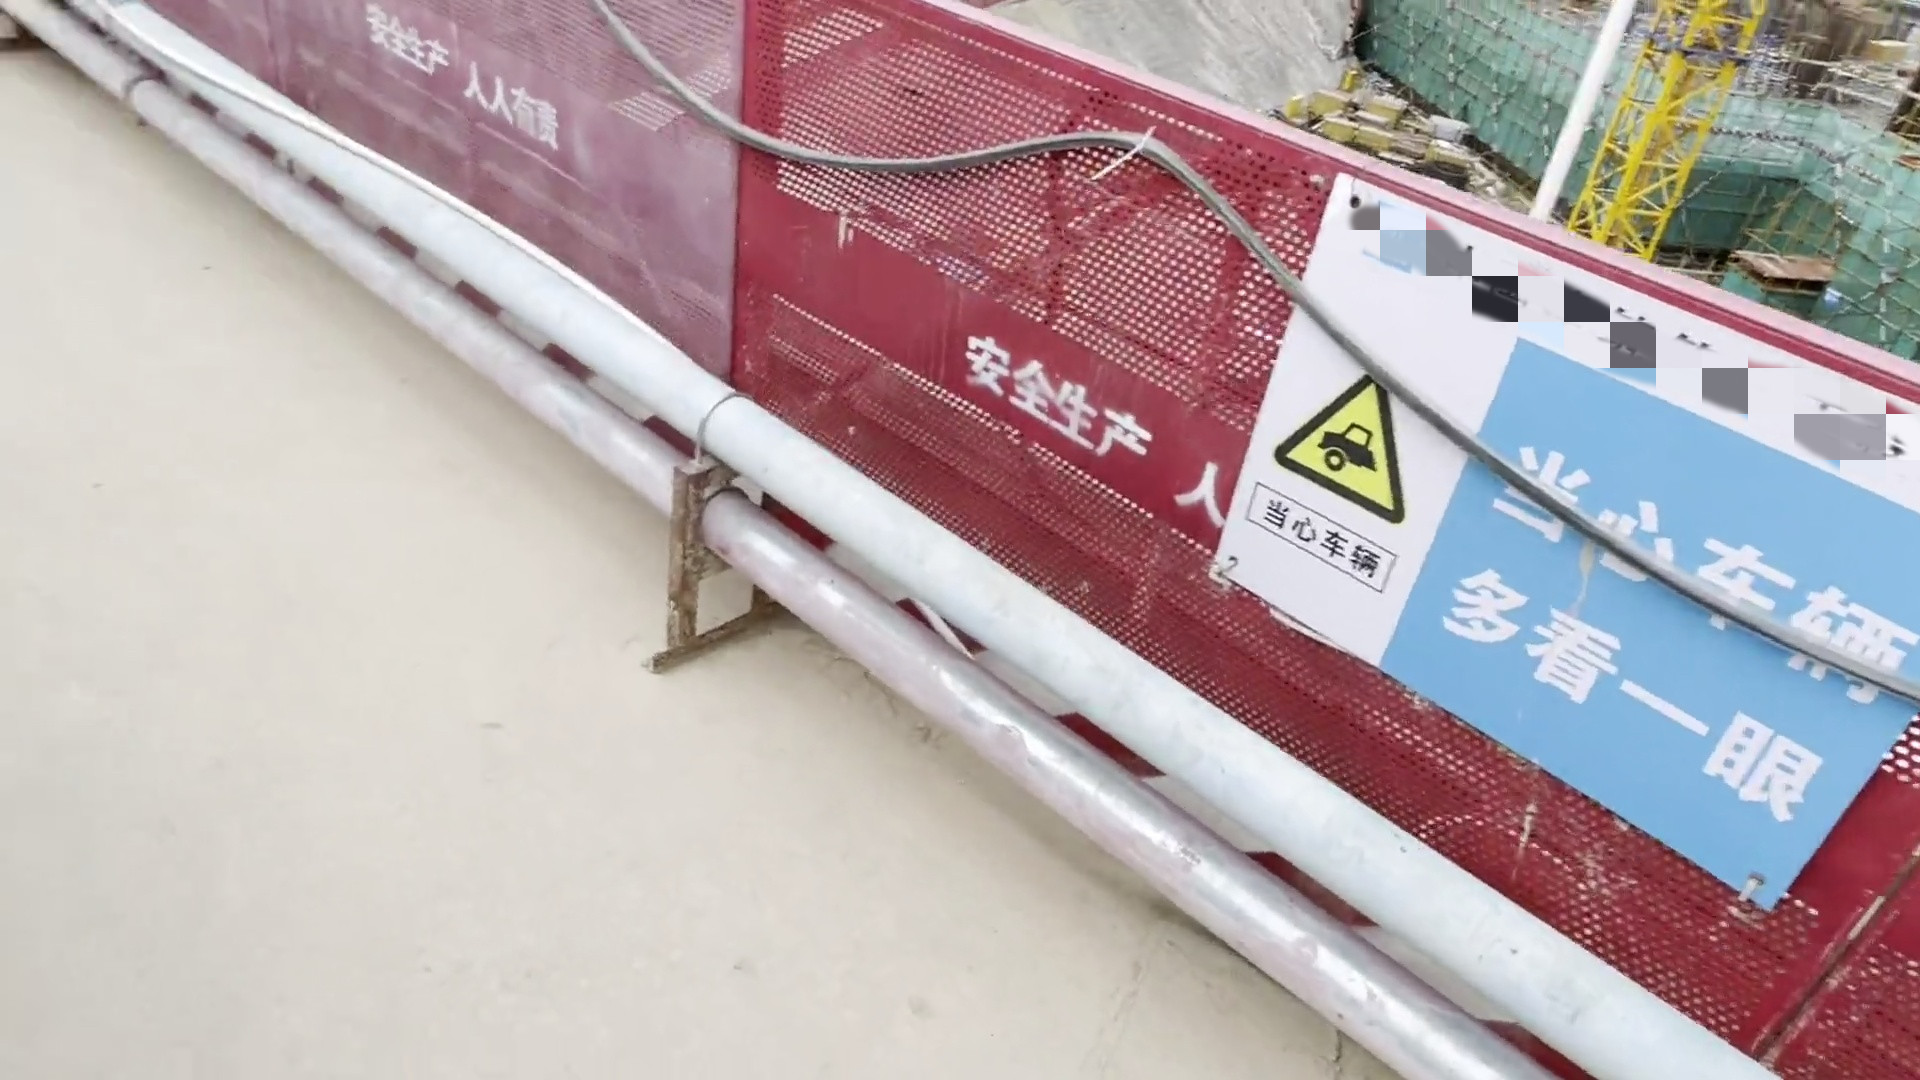fence: (818, 7, 1236, 659)
slogan: (1208, 167, 1920, 913)
